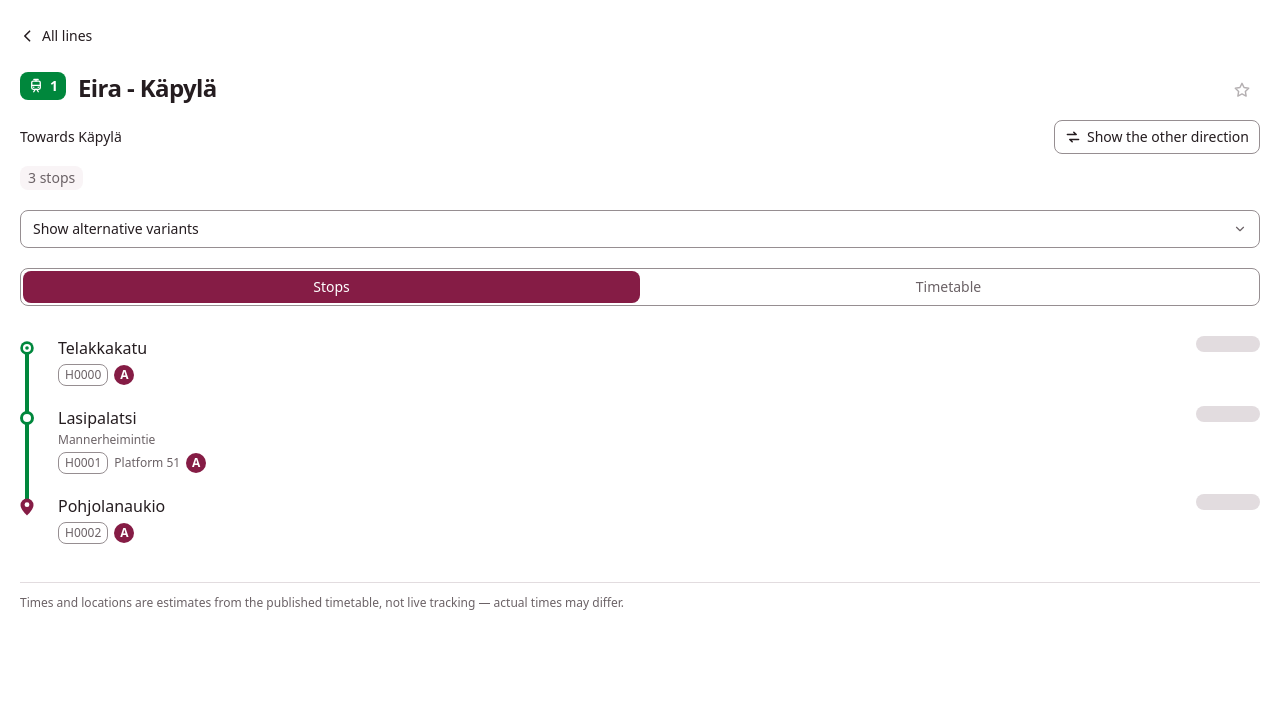
Test: RouteInspector › only says how many trips run today on the timetable tab
Expected: the heading "Eira - Käpylä" is shown, x1=78 y1=71 x2=217 y2=104
Expected: the text "3 trips today" is not shown
Step 1. Click the radio button labelled "Timetable" → x=948, y=287, box x1=640 y1=271 x2=1257 y2=303
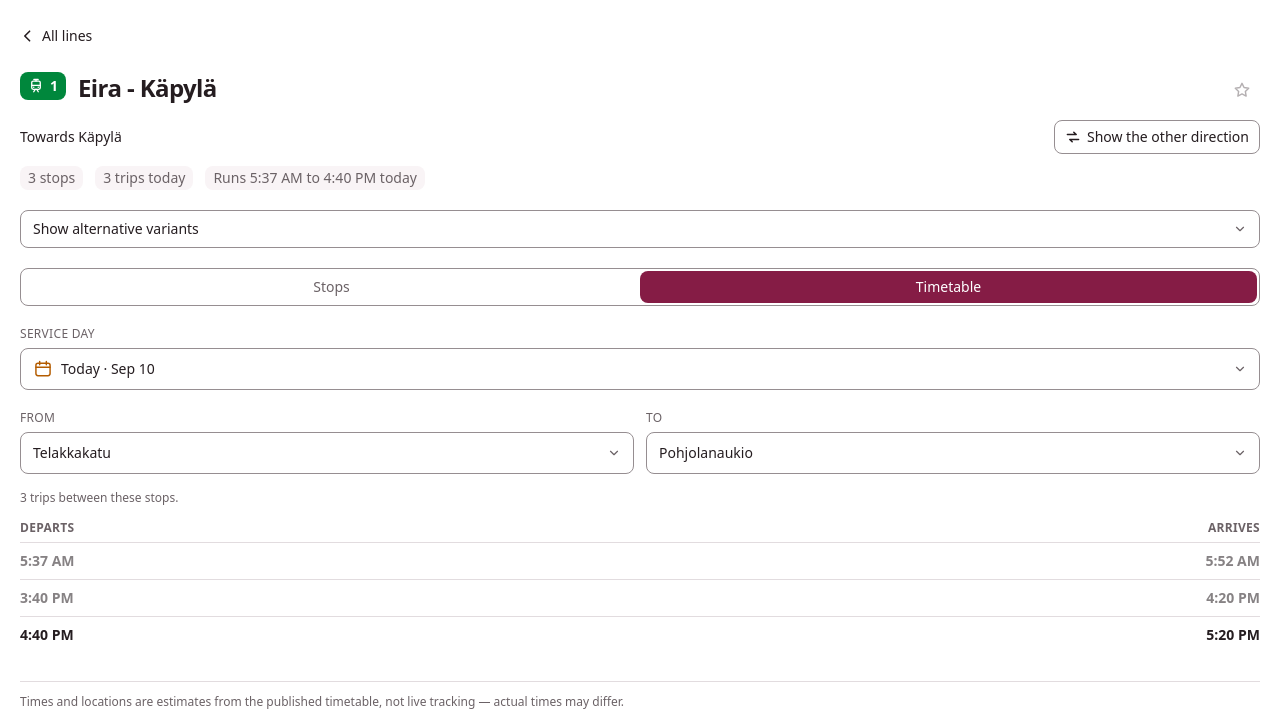
Expected: the list item "3 trips today" is shown, x1=95 y1=166 x2=193 y2=190
